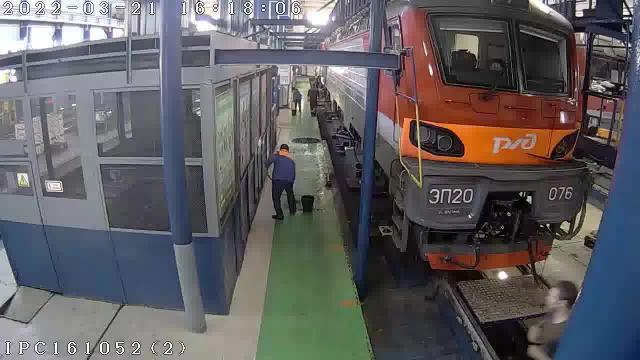person: (528, 281, 578, 359), (266, 144, 295, 219), (307, 82, 318, 114), (292, 87, 301, 111), (315, 75, 322, 88)
train: (375, 0, 591, 269)
